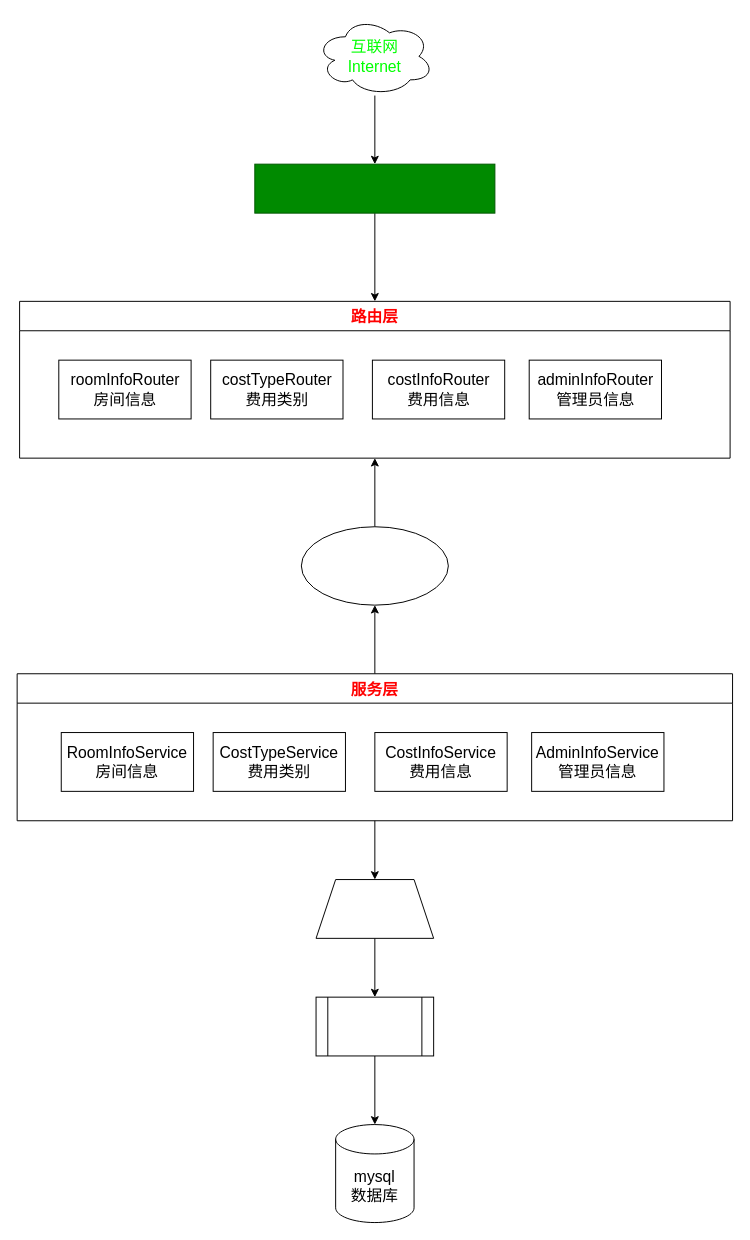
This 750x1240 diagram has some shape labels left out. The shapes that lost their labels are listed below. From the top down, each one's centre as x and y in pixels, then its label:
(x=374, y=188): app.js Express程序
(x=374, y=565): ServiceFactory 服务工厂
(x=374, y=908): BaseService 基础服务
(x=374, y=1026): DBUtils
